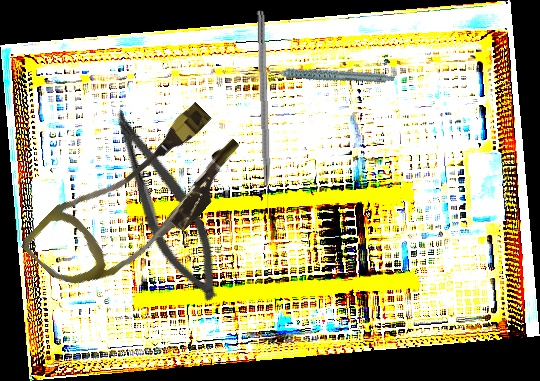Cannula: (19, 82, 254, 321)
Handpiece: (262, 38, 396, 108)
Hook Surgical: (255, 9, 273, 221)
Micro Scissor: (87, 100, 240, 311)
